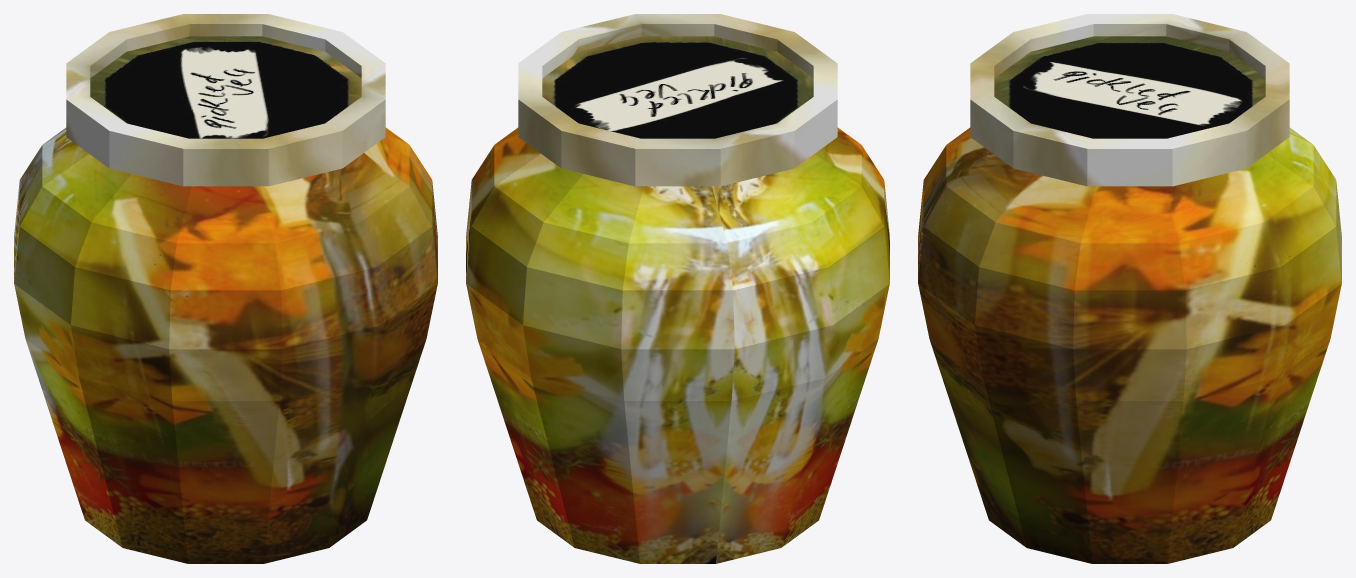
The model's file is pickledveg.fbx.
The picture shows the model from 3 angles, left to right: view 1: azimuth 30°, elevation 25°; view 2: azimuth 150°, elevation 25°; view 3: azimuth 270°, elevation 25°; orthographic projection.
Visible parts, largest first — view 1: PickledJar.010; view 2: PickledJar.010; view 3: PickledJar.010.
Boxes of the visible parts, x1,y1,x2,y2 form: PickledJar.010: (14, 14, 437, 563); PickledJar.010: (466, 14, 889, 563); PickledJar.010: (918, 14, 1341, 563).
Size of the model in its own units: 39.35 by 43.33 by 39.35.
